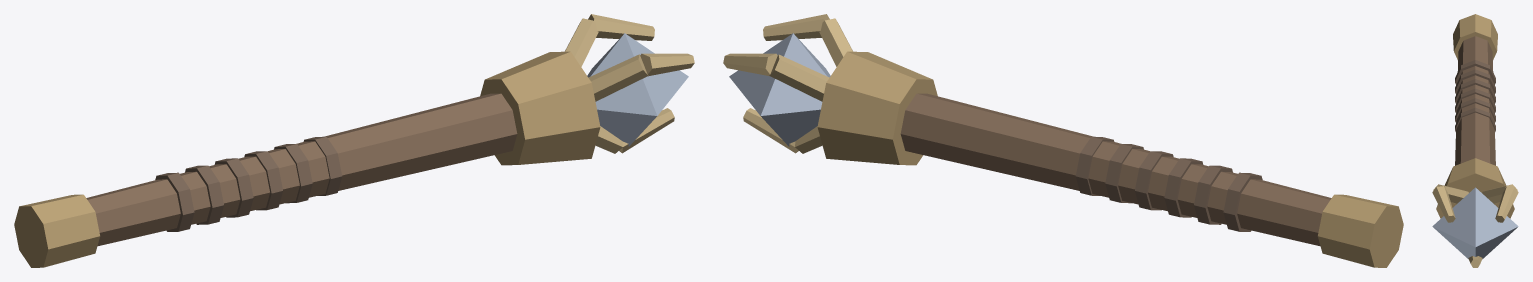
The model's file is forged-staff.glb.
The picture shows the model from 3 angles, left to right: view 1: azimuth 30°, elevation 25°; view 2: azimuth 150°, elevation 25°; view 3: azimuth 270°, elevation 25°; orthographic projection. The views are drawn at different scales.
Parts seen in each view (by area): view 1: forged-staff; view 2: forged-staff; view 3: forged-staff.
Boxes of the visible parts, box(x1,y1,x2,y2) form: forged-staff: box(14, 14, 694, 267); forged-staff: box(723, 14, 1403, 267); forged-staff: box(1432, 14, 1518, 267).
Bounding box in the file's own units: 0.512 × 0.088 × 0.088.
